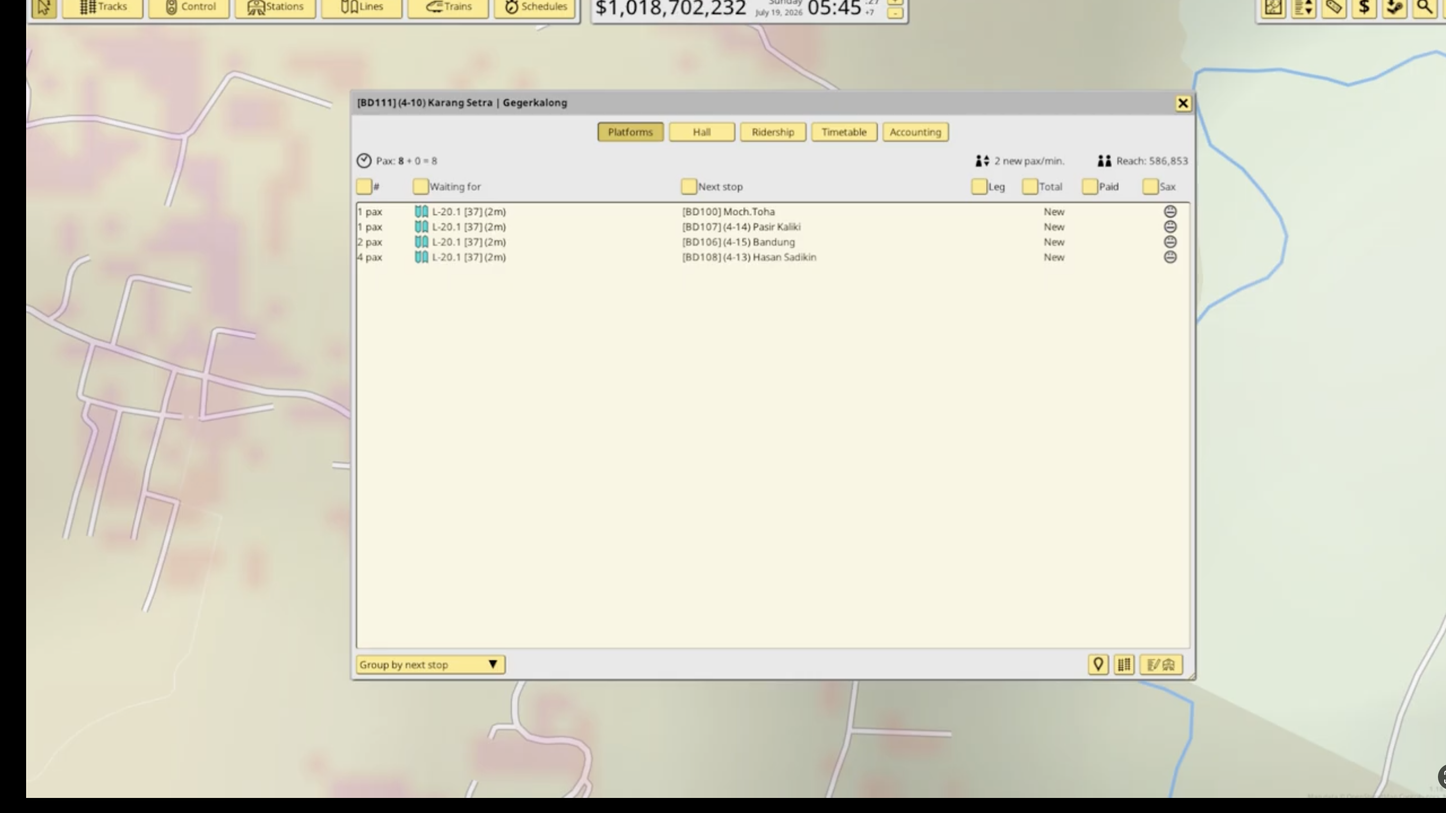passenger_increase: (331, 267, 357, 279), (332, 252, 357, 264), (332, 222, 357, 233), (332, 237, 357, 248)
station_id: (656, 267, 695, 278), (656, 222, 695, 232), (656, 253, 695, 263), (656, 238, 695, 247)
station_name: (726, 268, 791, 277), (726, 252, 770, 264), (727, 237, 775, 247), (697, 222, 749, 231)
station_numbering: (696, 237, 725, 248), (696, 253, 724, 263), (697, 268, 724, 278)
time: (780, 10, 857, 32)
